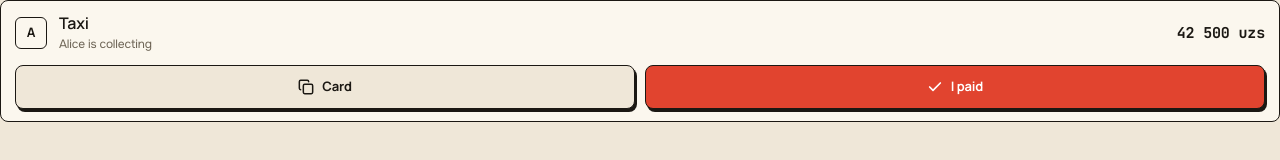
Scenario: OwingRow › keeps the bill where it is when the mark is undone
The width and height of the screenshot is (1280, 160).
Click the button "I paid" at (955, 87), box [645,65,1265,109]
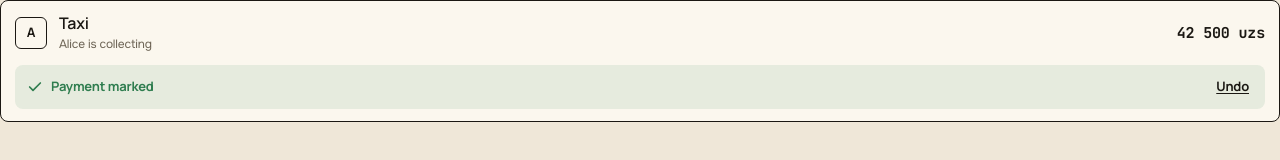
Click the button "Undo" at (1233, 87), box [1204,67,1261,107]
Wait 4000 ms
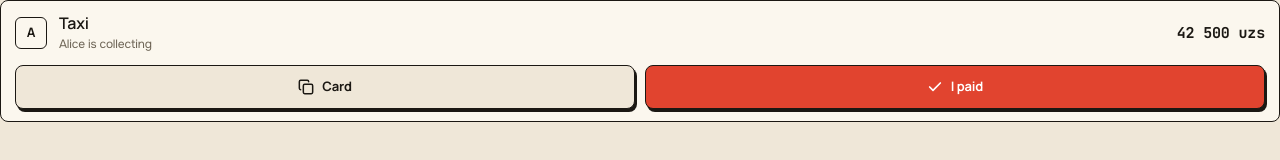
Now the button "I paid" is shown, box [645,65,1265,109]
